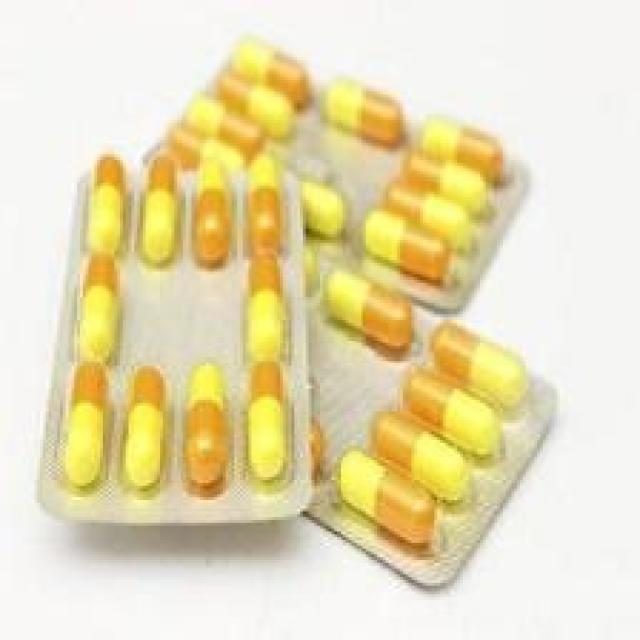Medicine: (34, 0, 532, 589)
